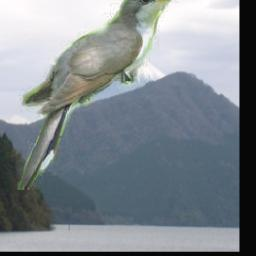Cuckoo: (18, 0, 181, 191)
